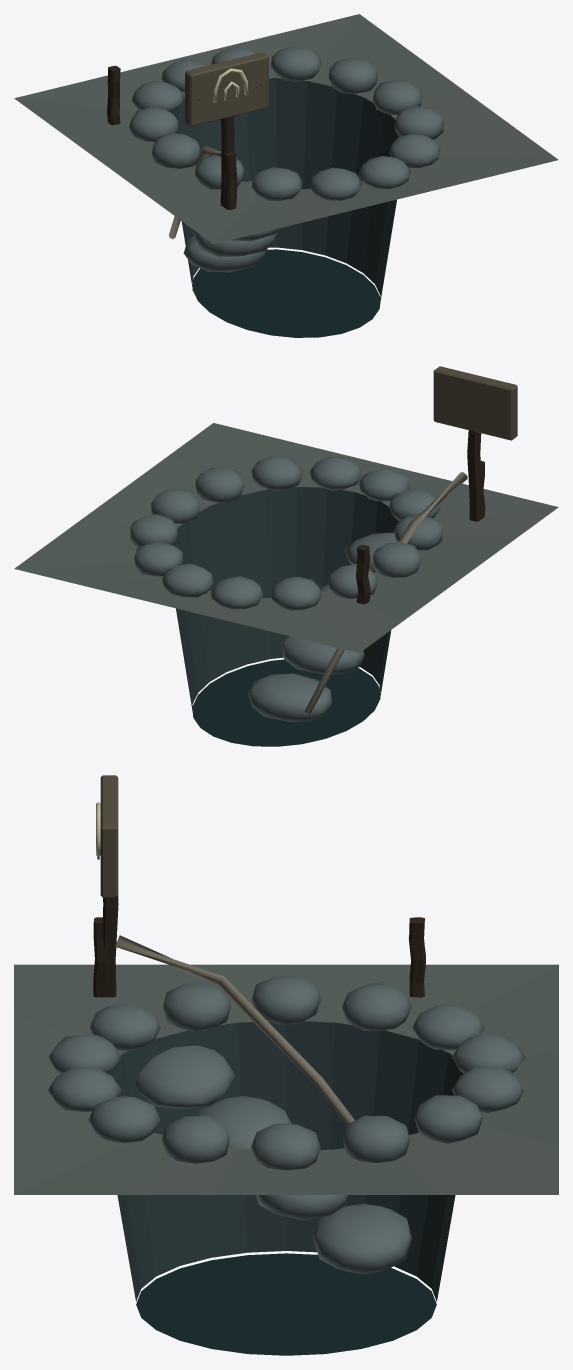
The model's file is cavern-onward.glb.
3 views of the same model, one above another, from view 1: azimuth 30°, elevation 25°; view 2: azimuth 150°, elevation 25°; view 3: azimuth 270°, elevation 25° (orthographic). The views are drawn at different scales.
Parts seen in each view (by area): view 1: Surface, Ground; view 2: Surface, Ground; view 3: Surface, Ground.
Part boxes in pixels (x1,y1,x2,y2): Surface: [107, 46, 443, 337]; Ground: [14, 14, 558, 244]; Surface: [130, 366, 517, 746]; Ground: [14, 423, 558, 652]; Surface: [48, 775, 525, 1355]; Ground: [14, 964, 558, 1194].
Bounding box in the file's own units: 2 × 1.7 × 2.
